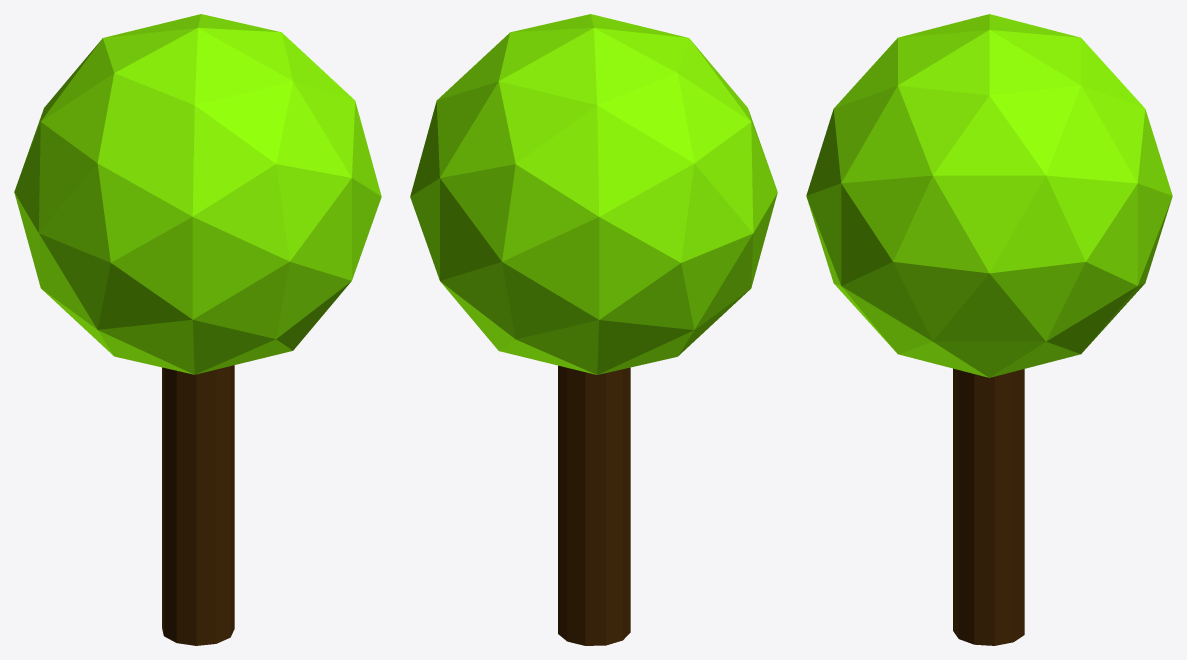
Rendered from tree.fbx.
The picture shows the model from 3 angles, left to right: view 1: azimuth 30°, elevation 25°; view 2: azimuth 150°, elevation 25°; view 3: azimuth 270°, elevation 25°; orthographic projection.
Visible parts, largest first — view 1: Icosahedron, Cylinder; view 2: Icosahedron, Cylinder; view 3: Icosahedron, Cylinder.
Part boxes in pixels (x1,y1,x2,y2): Icosahedron: [14, 14, 381, 374]; Cylinder: [162, 365, 234, 645]; Icosahedron: [410, 14, 777, 374]; Cylinder: [558, 365, 630, 645]; Icosahedron: [806, 14, 1172, 377]; Cylinder: [953, 368, 1024, 645].
Bounding box in the file's own units: 1 × 1.81 × 1.
